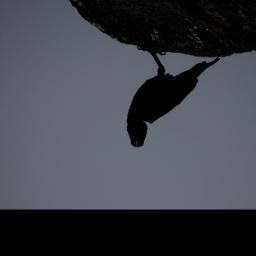Crow: (125, 48, 220, 149)
